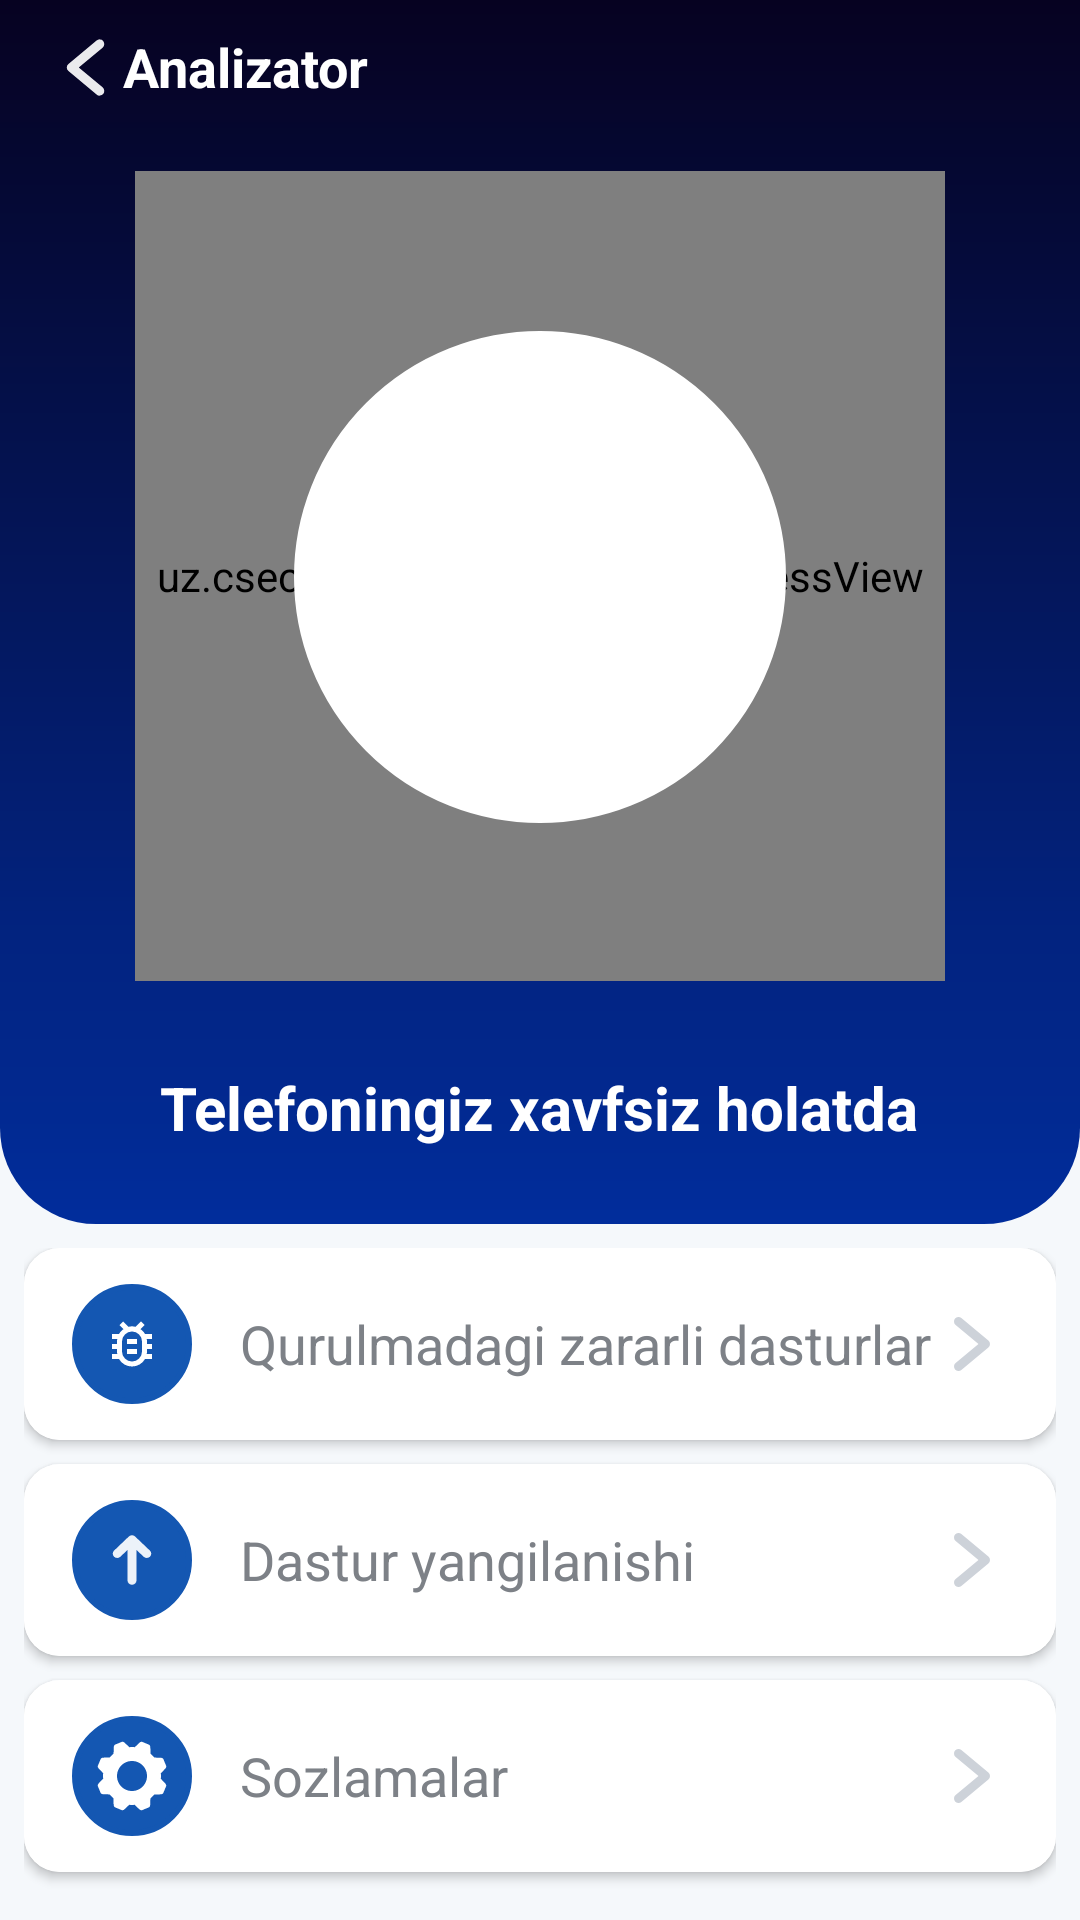

Screen size 1080px x 1920px. Icon name, then its center in pixels as (x=x, y=y):
arrow right: (x=972, y=1344), (x=972, y=1560), (x=972, y=1776)
fund virus: (x=132, y=1344)
settings: (x=132, y=1776)
update: (x=132, y=1560)
